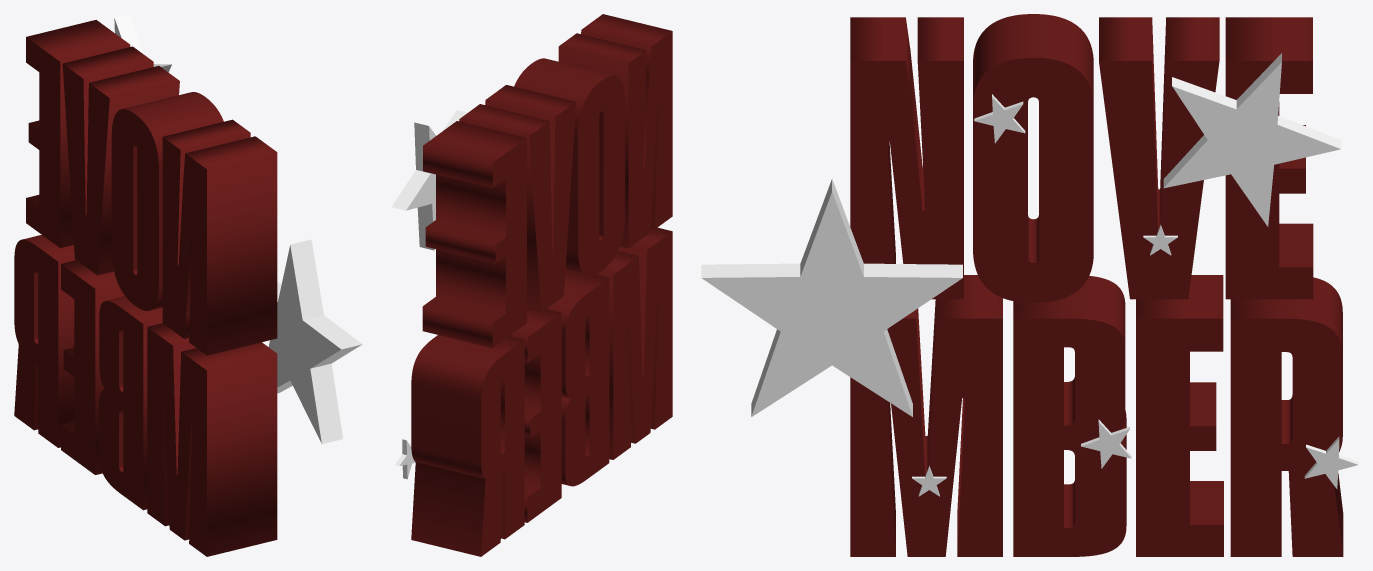
Rendered from letras_animacion_RA.glb.
3 views of the same model, side by side, from view 1: azimuth 30°, elevation 25°; view 2: azimuth 150°, elevation 25°; view 3: azimuth 270°, elevation 25° (orthographic). The views are drawn at different scales.
Visible parts, largest first — view 1: NOVE, estrella_grande_izq, estrella_grande_derec; view 2: NOVE, estrella_grande_derec, estrella_r; view 3: NOVE, estrella_grande_izq, estrella_grande_derec, estrella_r, estrella_o, estrella_b.
Part boxes in pixels (x1,y1,x2,y2): NOVE: [14, 20, 277, 556]; estrella_grande_izq: [268, 239, 362, 444]; estrella_grande_derec: [114, 14, 171, 72]; NOVE: [411, 14, 672, 556]; estrella_grande_derec: [391, 110, 467, 250]; estrella_r: [395, 439, 415, 479]; NOVE: [850, 14, 1343, 556]; estrella_grande_izq: [701, 178, 962, 416]; estrella_grande_derec: [1163, 53, 1341, 226]; estrella_r: [1304, 436, 1358, 489]; estrella_o: [974, 94, 1025, 143]; estrella_b: [1081, 419, 1131, 468].
Size of the model in its own units: 1.05 by 4.07 by 4.78.
